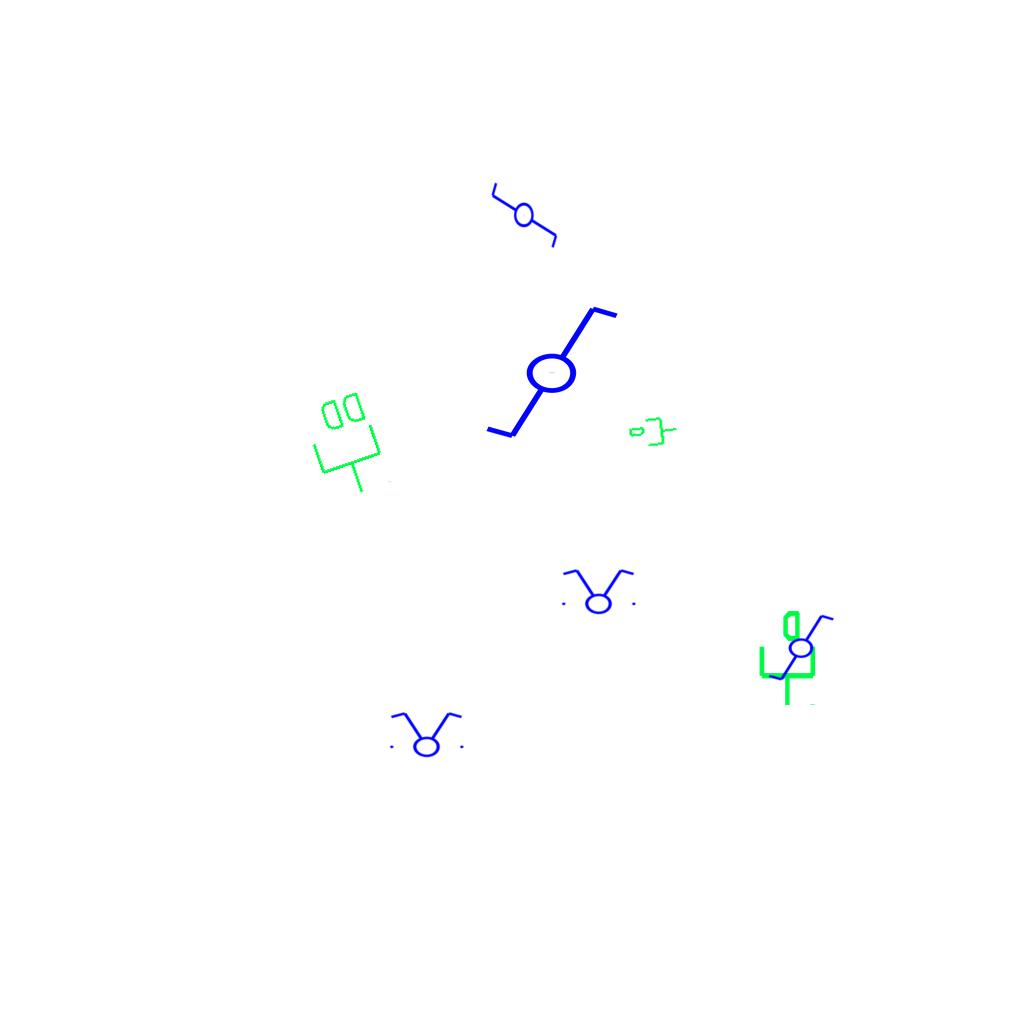Datenanschluss_einfach: (751, 608, 820, 708), (626, 413, 680, 453)
Datenanschluss_zweifach: (297, 385, 396, 506)
Serienschalter: (384, 710, 468, 758), (556, 567, 640, 615)
Wechselschalter: (465, 299, 622, 443), (489, 172, 561, 250), (758, 611, 836, 683)
